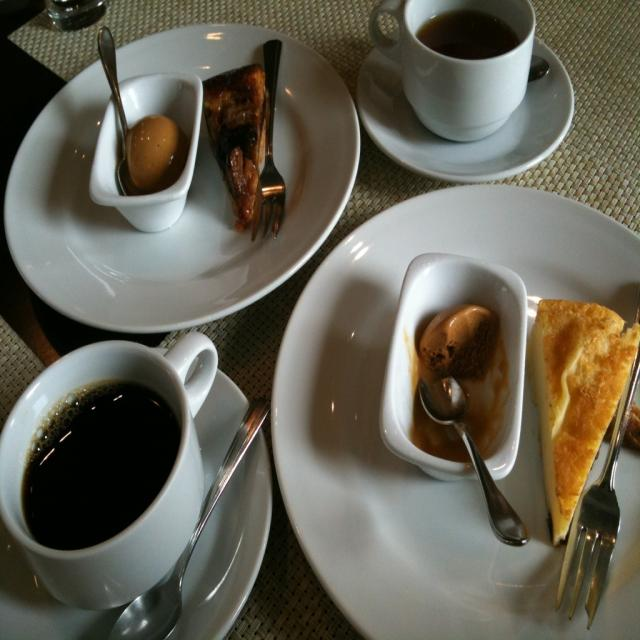Coffee: (21, 387, 180, 545), (409, 8, 524, 61)
Tea: (18, 388, 174, 552), (415, 8, 520, 59)
